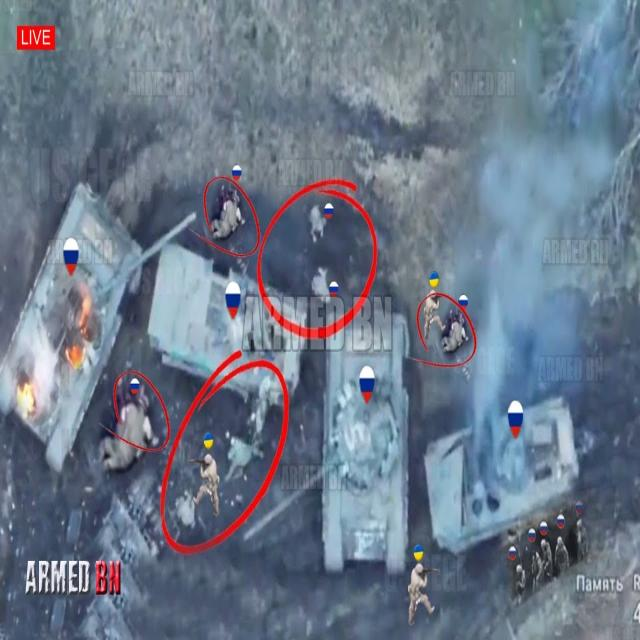apc: (423, 396, 580, 560), (147, 246, 306, 402)
destroyed: (0, 180, 143, 473)
tank: (324, 314, 408, 576)
